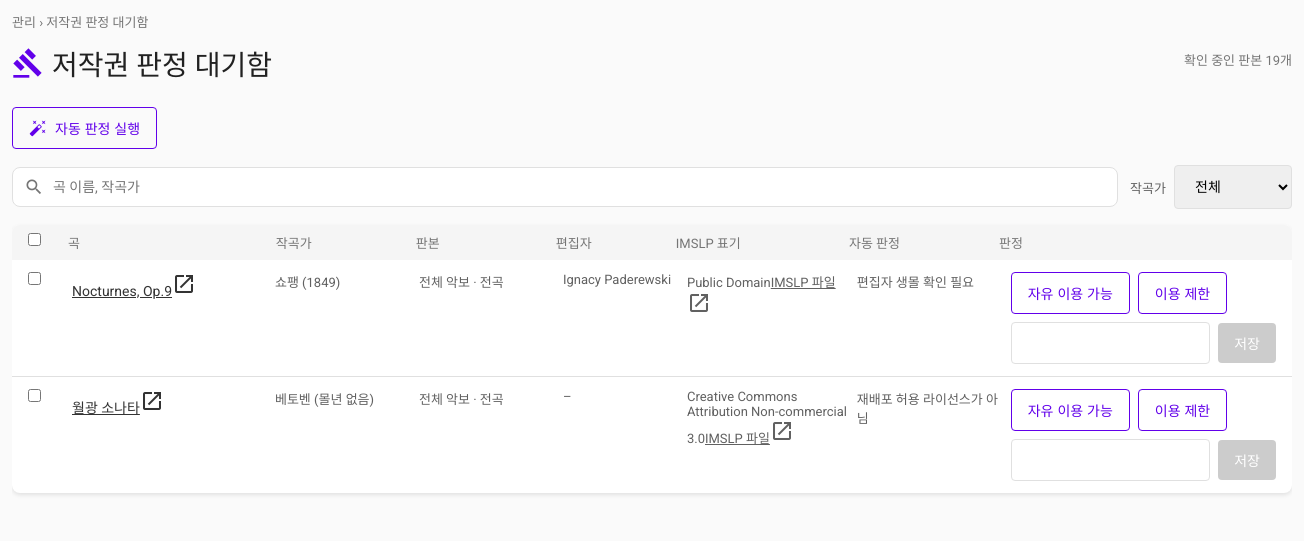
CopyrightPendingPage — 행 판정 › 판정과 메모가 모두 있어야 '저장' 이 활성되고, 메모가 비면 근거를 요구한다
This screenshot has width=1304, height=541.
Expected: the button "저장" below "편집자 생몰 확인 필요" is disabled, [1218,323,1276,363]
Click the button "자유 이용 가능" next to "편집자 생몰 확인 필요" at (1070, 293), box [1011,272,1130,314]
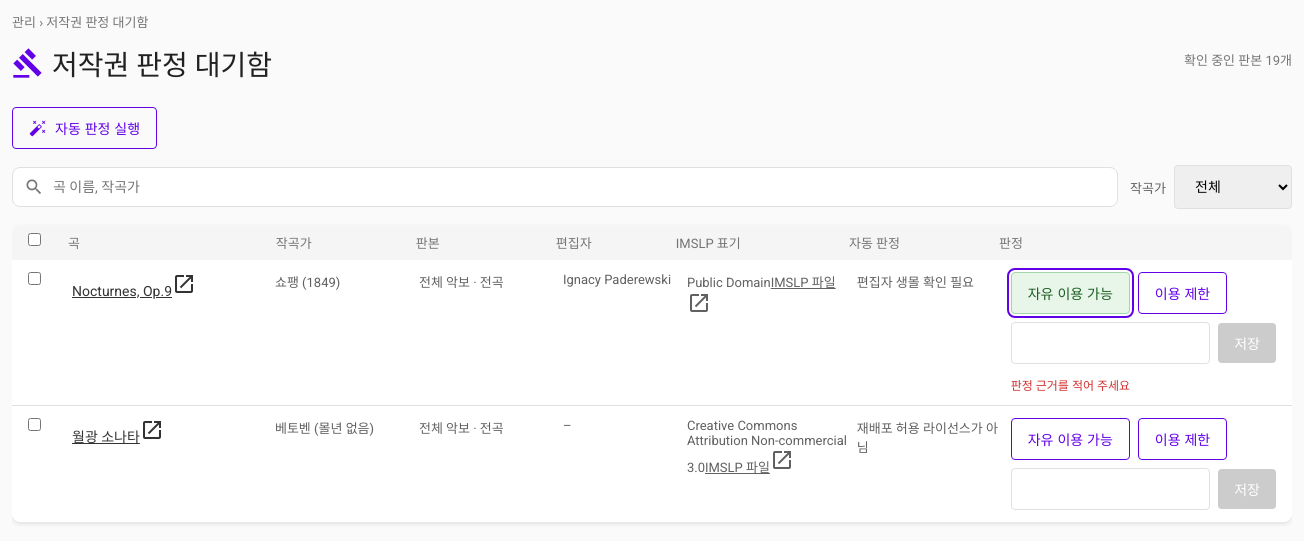
Expected: the button "저장" below "편집자 생몰 확인 필요" is disabled, [1218,323,1276,363]
Now the element with test id "pending-row-305" shows "판정 근거를 적어 주세요", box [1011,379,1130,393]
Type "작곡가 1849 사망, 편집자 1941 사망 → 경과" into the field named "판정 메모" below "Public Domain" at (1110, 343), box [1011,322,1210,364]
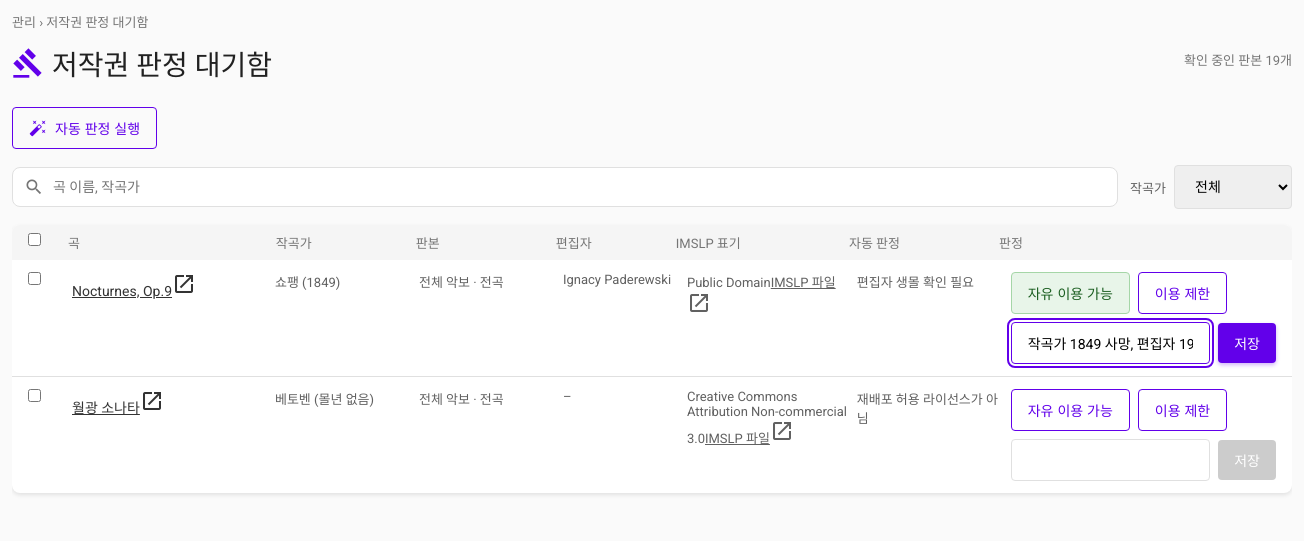
Now the button "저장" below "편집자 생몰 확인 필요" is enabled, box [1218,323,1276,363]
